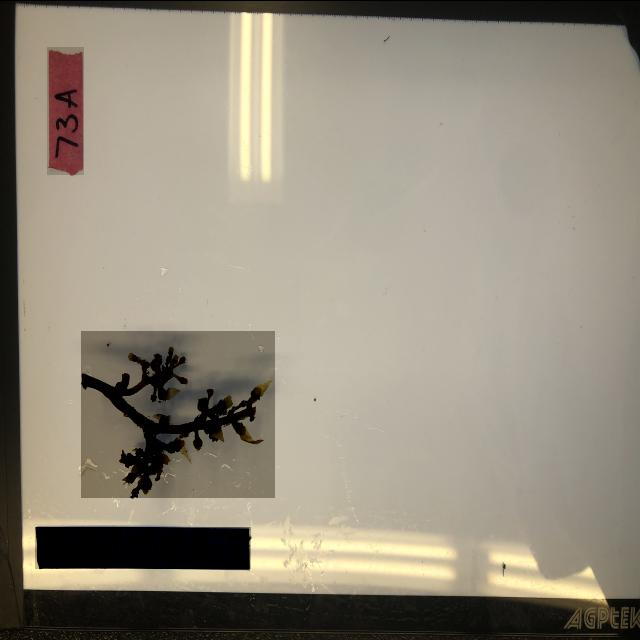index: (47, 46, 84, 174)
measure_label: (35, 526, 251, 568)
rachis_cluster: (82, 330, 276, 497)
